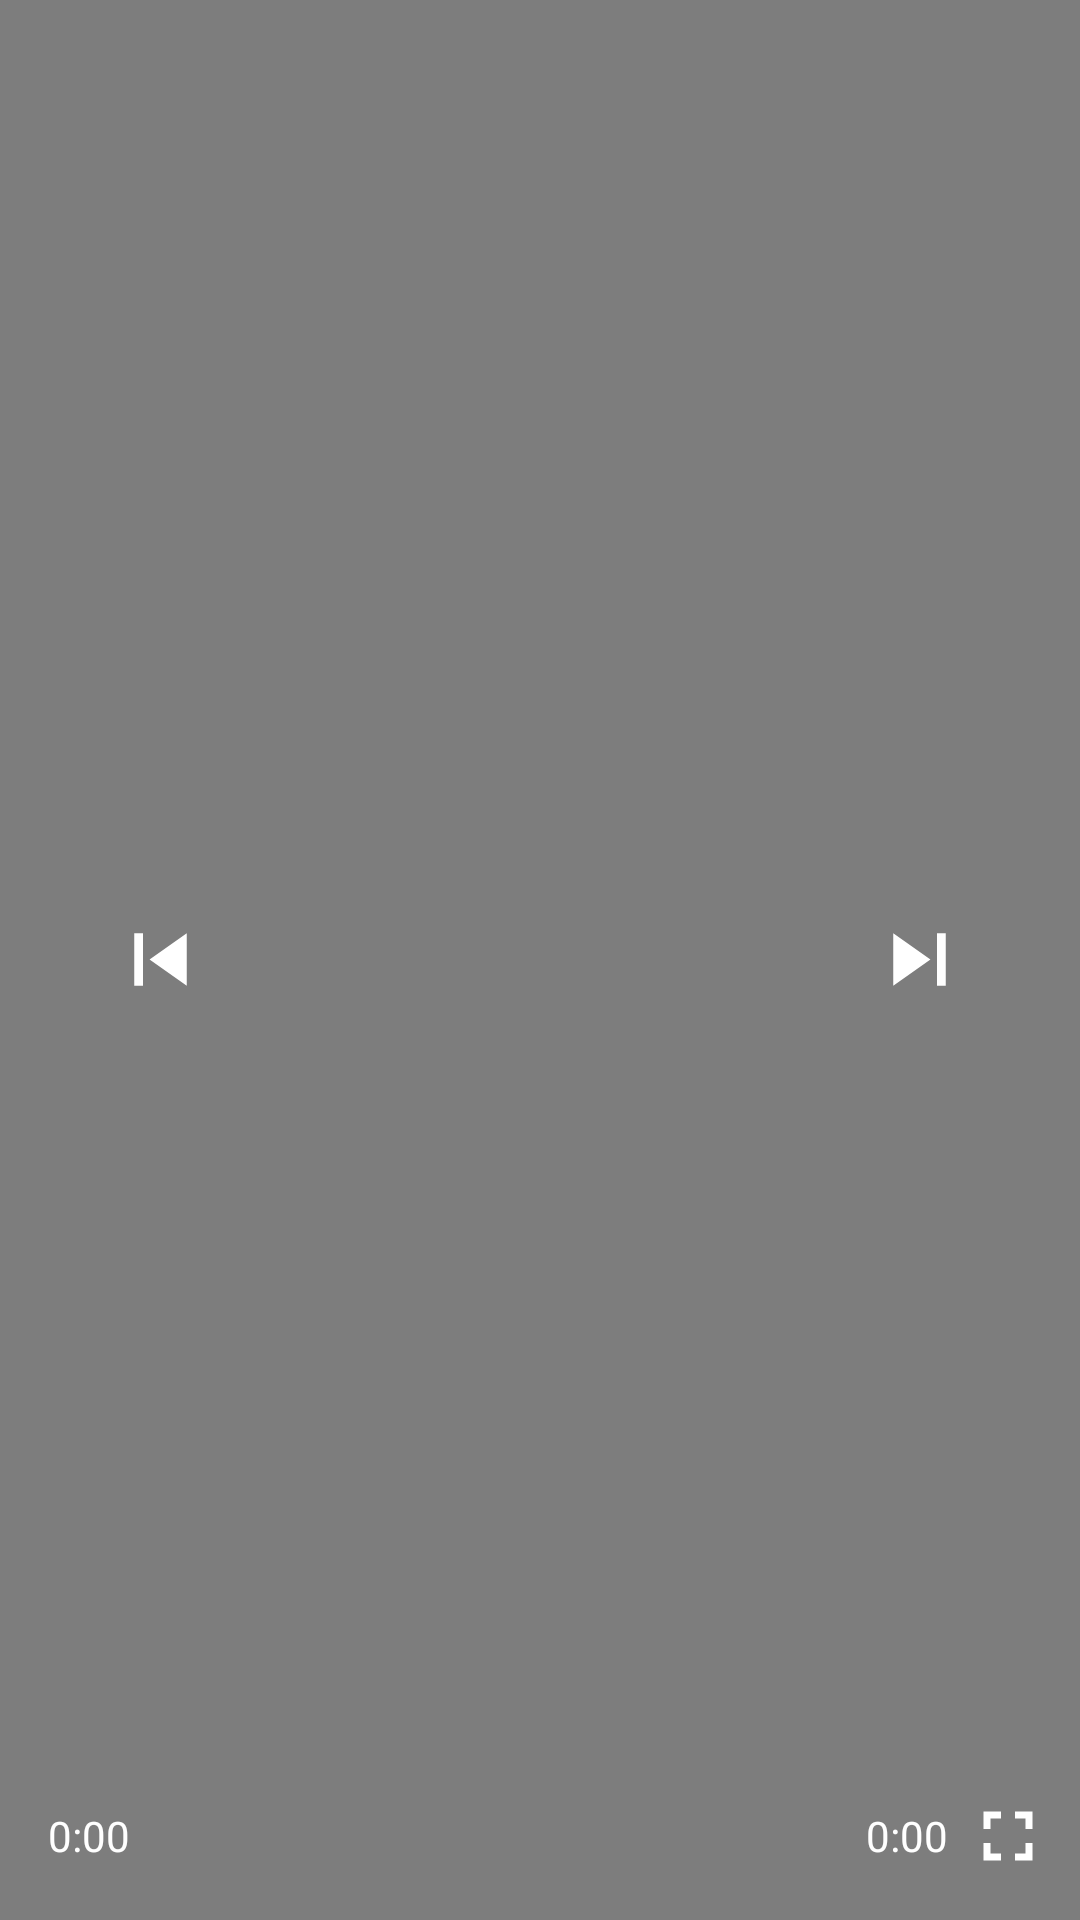

Icon click points for this 1080x1920 phone screenshot, format [x,y]:
fullscreen: [1008,1836]
skip next: [919,959]
skip previous: [160,959]
